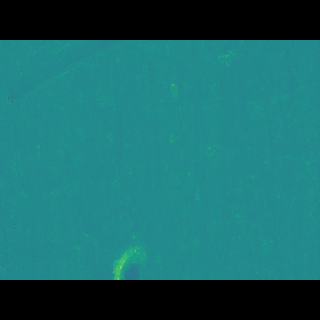Loch: (0, 69, 135, 120), (104, 218, 152, 251)
